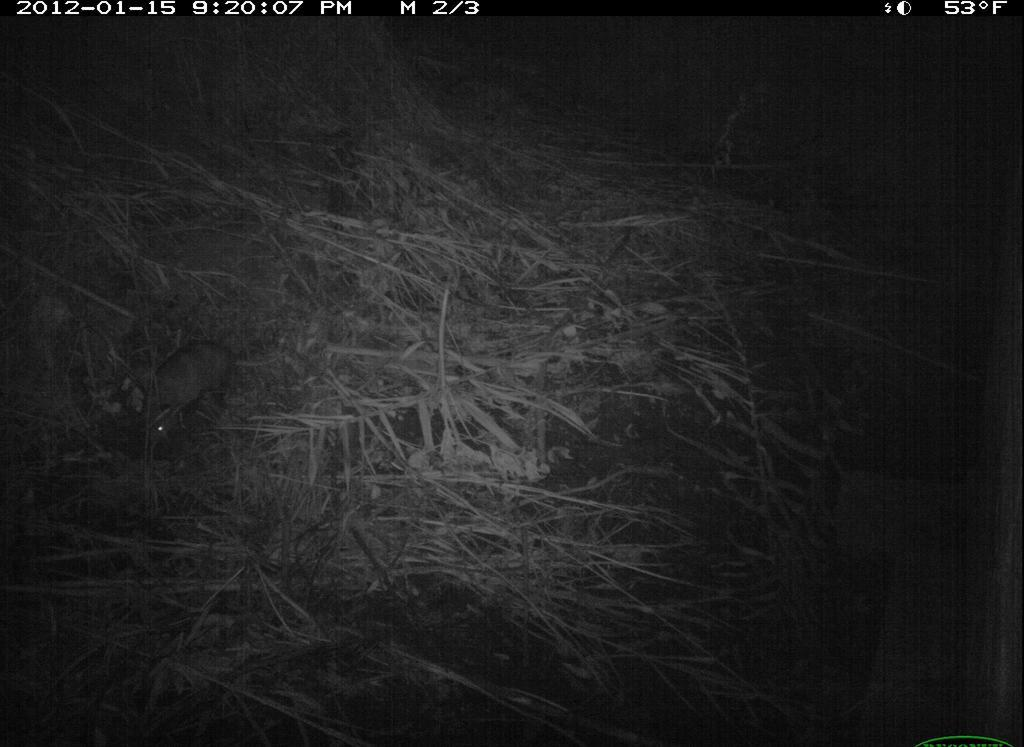opossum: (94, 332, 264, 470)
